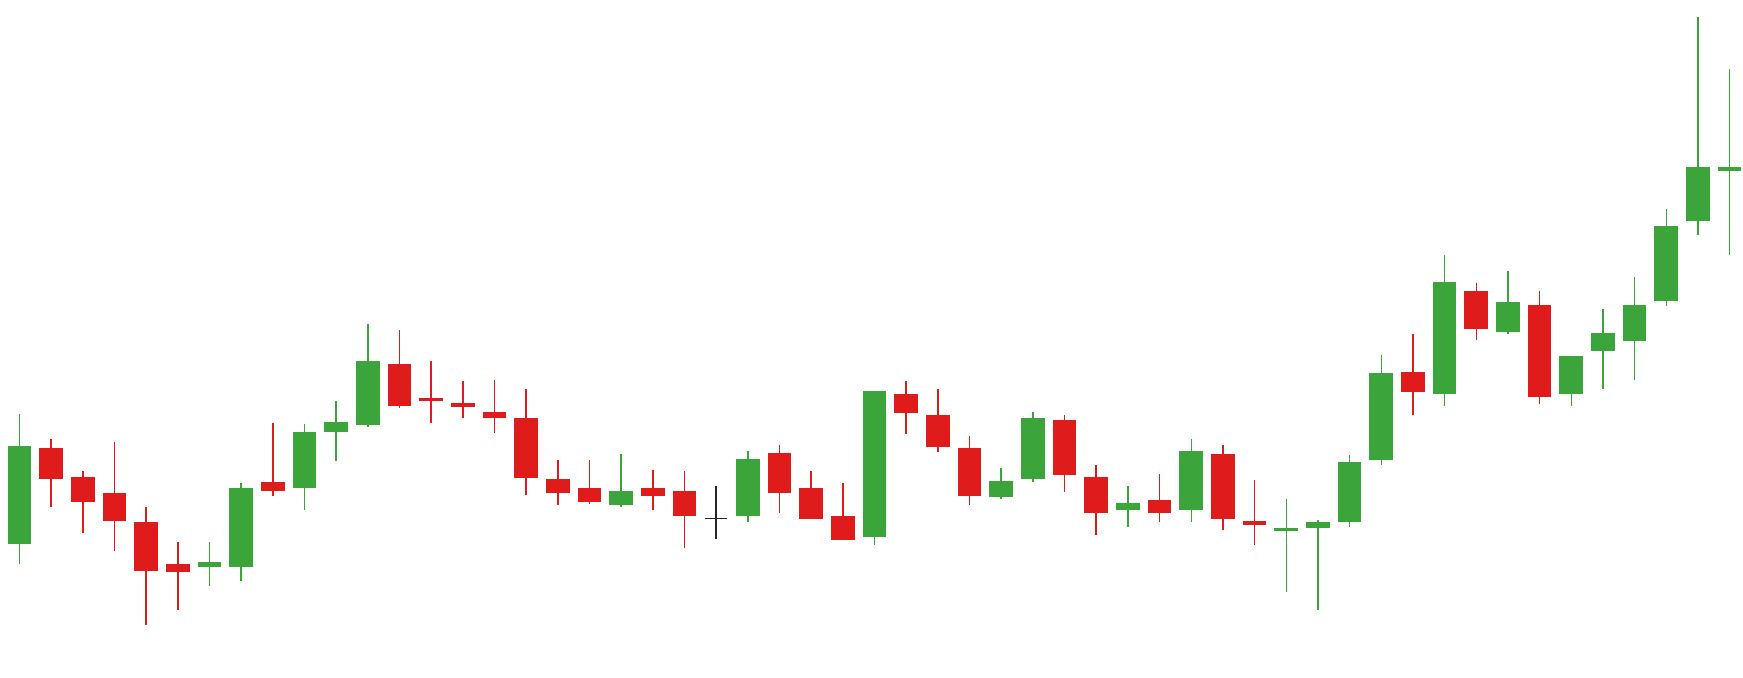sell: (728, 381, 953, 509)
